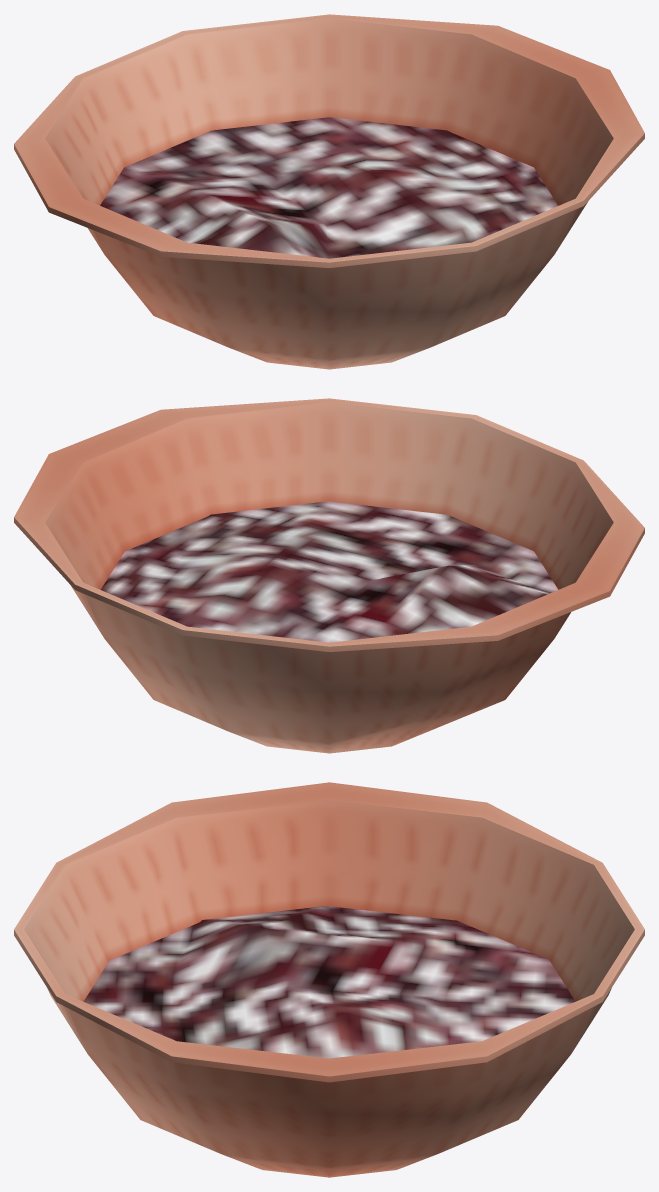
File: jsf_Ingredient_Octopus_01.fbx
3 views of the same model, one above another, from view 1: azimuth 30°, elevation 25°; view 2: azimuth 150°, elevation 25°; view 3: azimuth 270°, elevation 25° (orthographic). The views are drawn at different scales.
Parts seen in each view (by area): view 1: jsf_Ingredient_Octopus_01; view 2: jsf_Ingredient_Octopus_01; view 3: jsf_Ingredient_Octopus_01.
Boxes of the visible parts, x1,y1,x2,y2 form: jsf_Ingredient_Octopus_01: (14, 14, 644, 369); jsf_Ingredient_Octopus_01: (14, 398, 644, 753); jsf_Ingredient_Octopus_01: (14, 782, 644, 1177).
Bounding box in the file's own units: 37.9 × 11.5 × 34.35.
